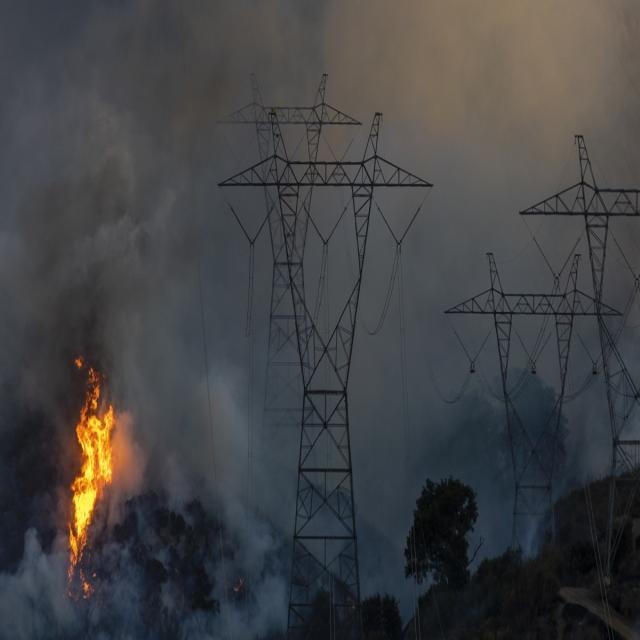Smoke: (0, 0, 304, 640), (354, 334, 640, 608)
